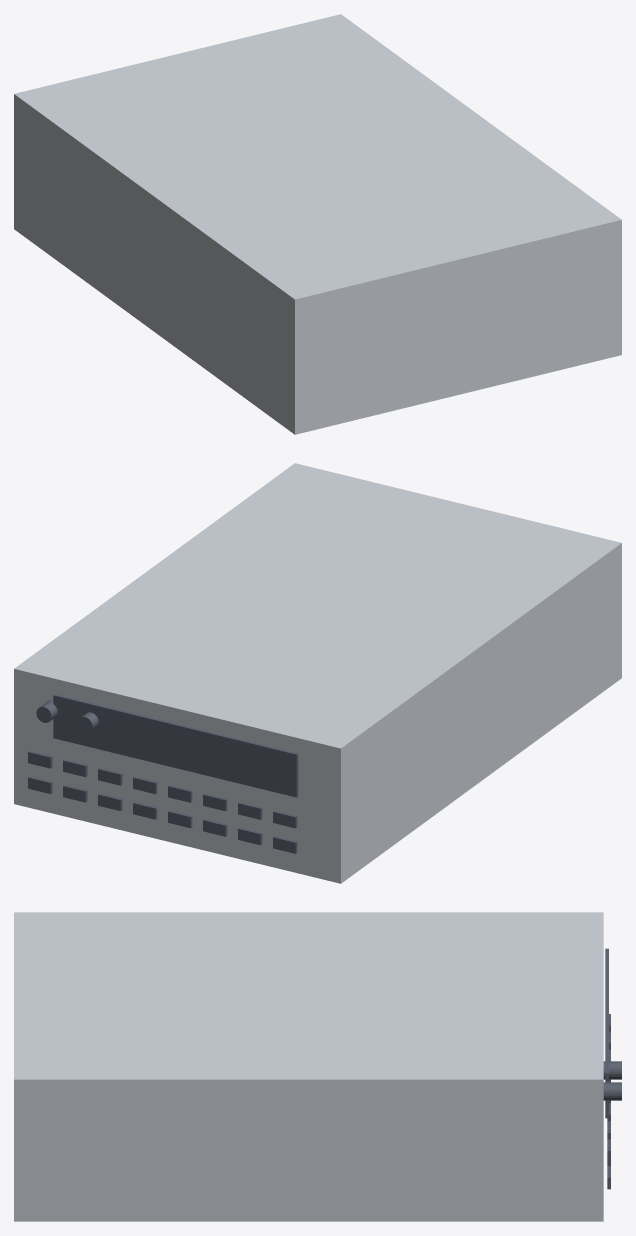
The model's file is wafer-shelf-smu-2.glb.
The picture shows the model from 3 angles, top to bottom: view 1: azimuth 30°, elevation 25°; view 2: azimuth 150°, elevation 25°; view 3: azimuth 270°, elevation 25°; orthographic projection. The views are drawn at different scales.
Parts seen in each view (by area): view 1: silver accessory instrument; view 2: silver accessory instrument, black display bezel; view 3: silver accessory instrument, black display bezel.
Part boxes in pixels (<box>): silver accessory instrument: <box>14,14,621,434</box>; silver accessory instrument: <box>14,463,621,883</box>; black display bezel: <box>53,694,298,797</box>; silver accessory instrument: <box>14,912,603,1221</box>; black display bezel: <box>605,948,608,1118</box>.
Size of the model in its own units: 0.215 by 0.085 by 0.33.
